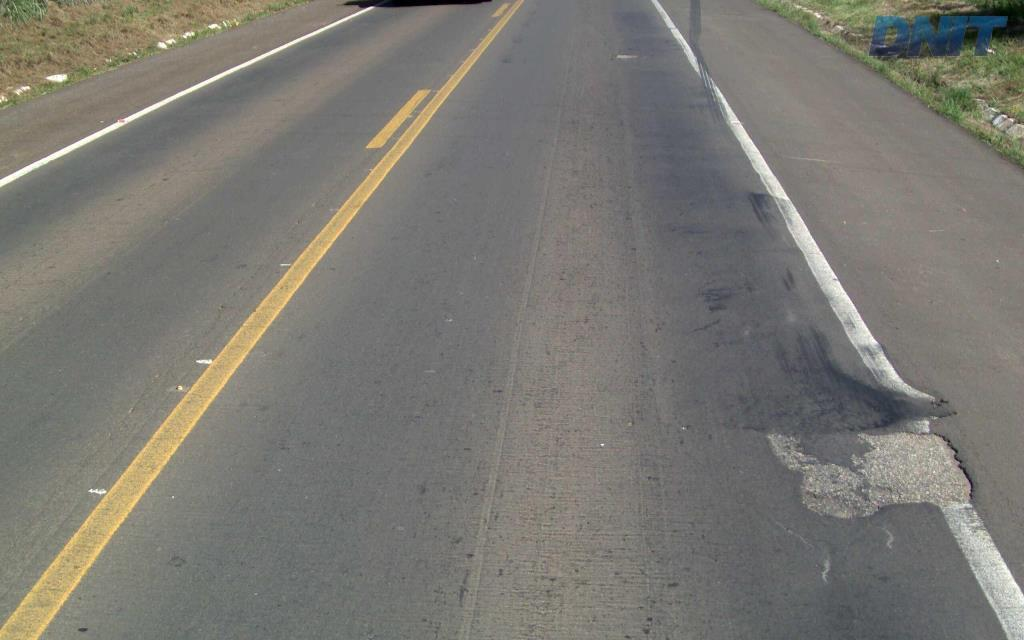pothole: (753, 418, 974, 536)
